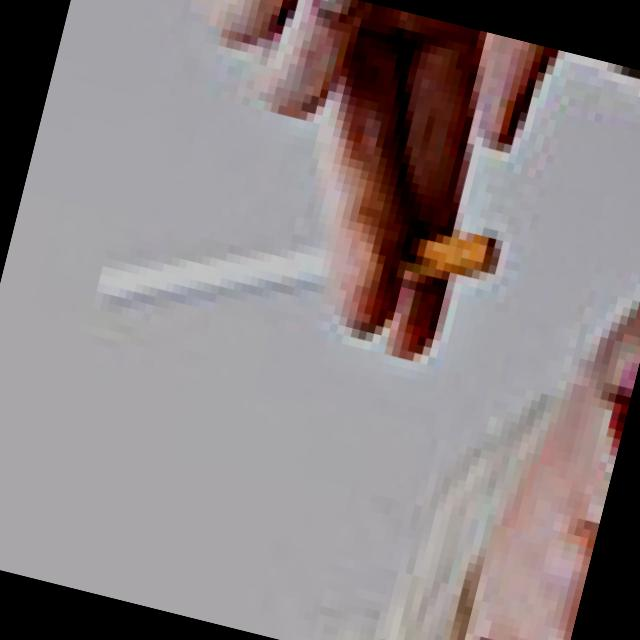smoke: (68, 125, 512, 405)
